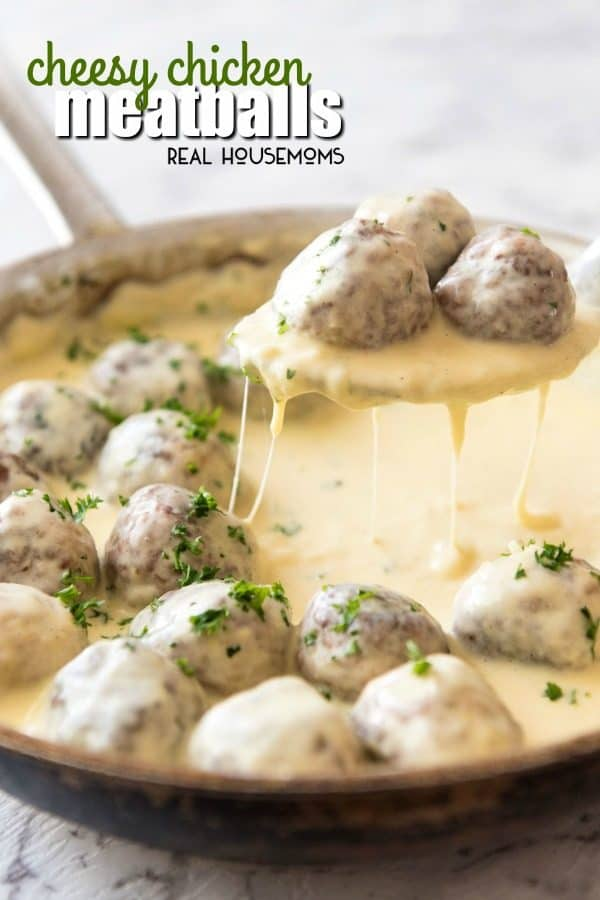meatballs: (12, 358, 588, 759), (286, 182, 572, 347)
